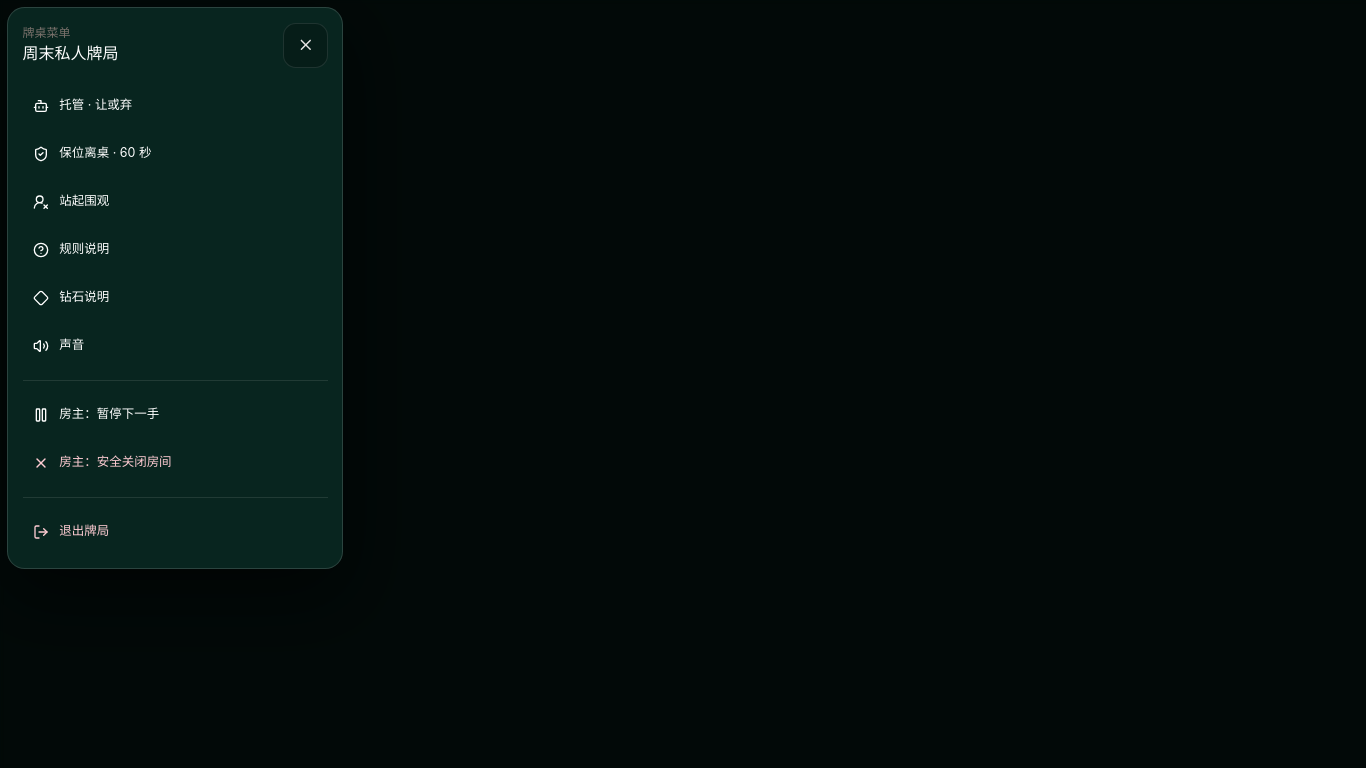
Scenario: mobile table product components › shows the active room variant rules from the table menu
Click the button "规则说明" at (84, 249), box [23,228,328,272]
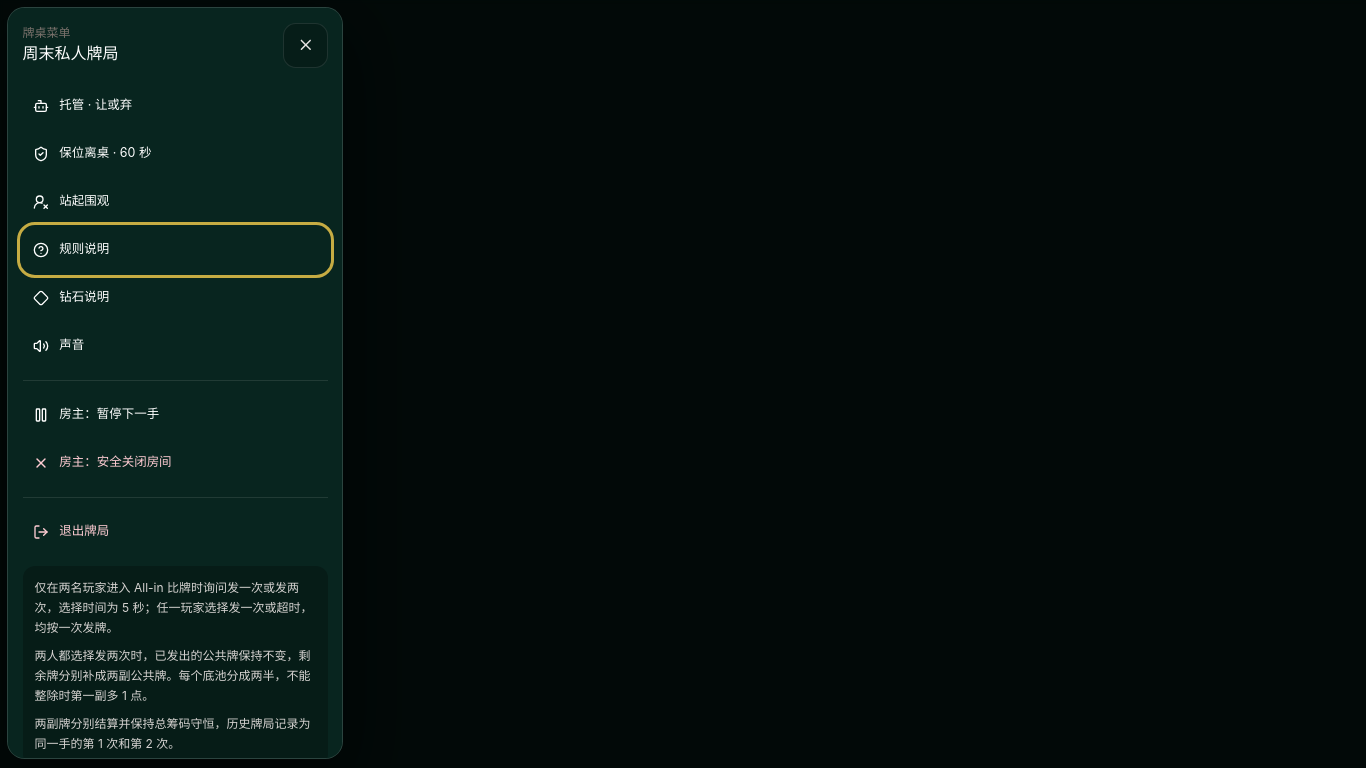
Now the text "仅在两名玩家进入 All-in 比牌时询问发一次或发两次，选择时间为 5 秒；任一玩家选择发一次或超时，均按一次发牌。" is shown, box [35,578,316,638]
